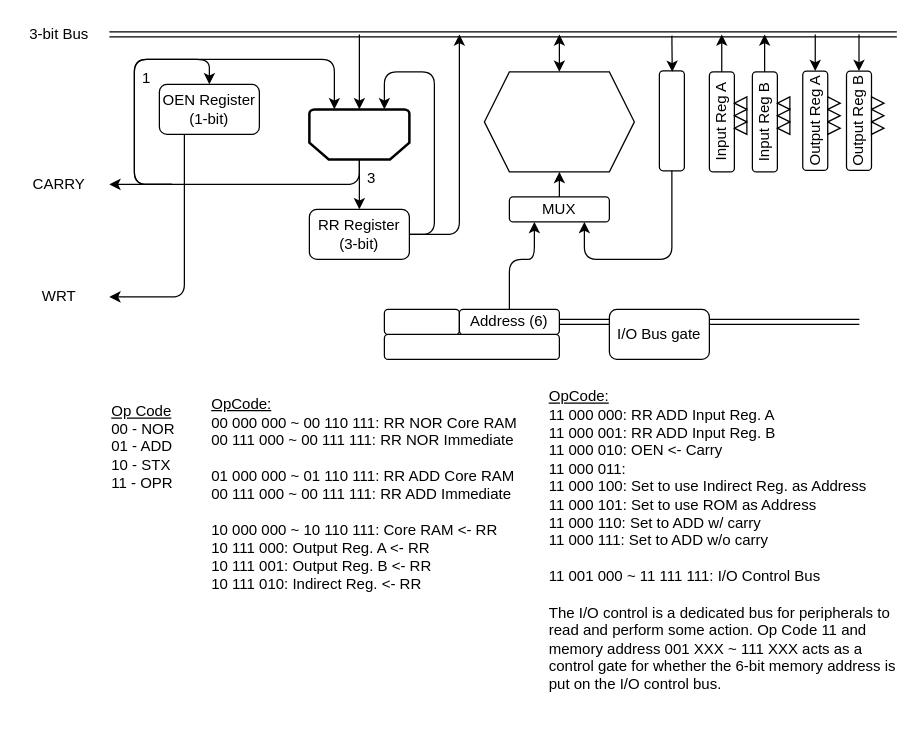
The diagram is 919 pixels wide and 730 high, and some of its shapes have lost their labels. The centre of each missing label's shape, as x and y in pixels:
ALU (3 -bit): (359,134)
Core Memory (6-bit Address) (3-bit word) (56 words): (558,121)
Indirect Reg: (671,120)
OpC (2): (421,321)
Paper Tape (8-bit): (471,346)
